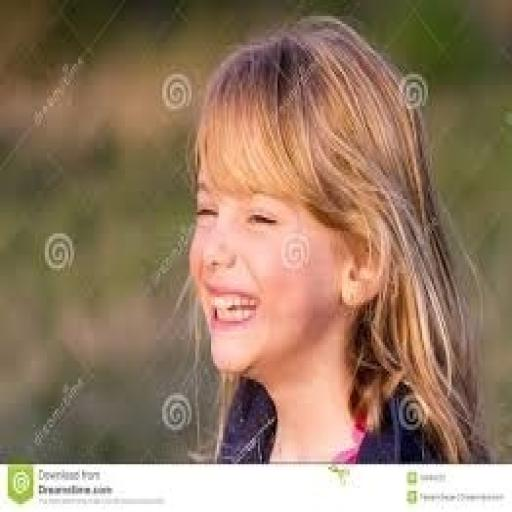laughing: (168, 13, 485, 459)
